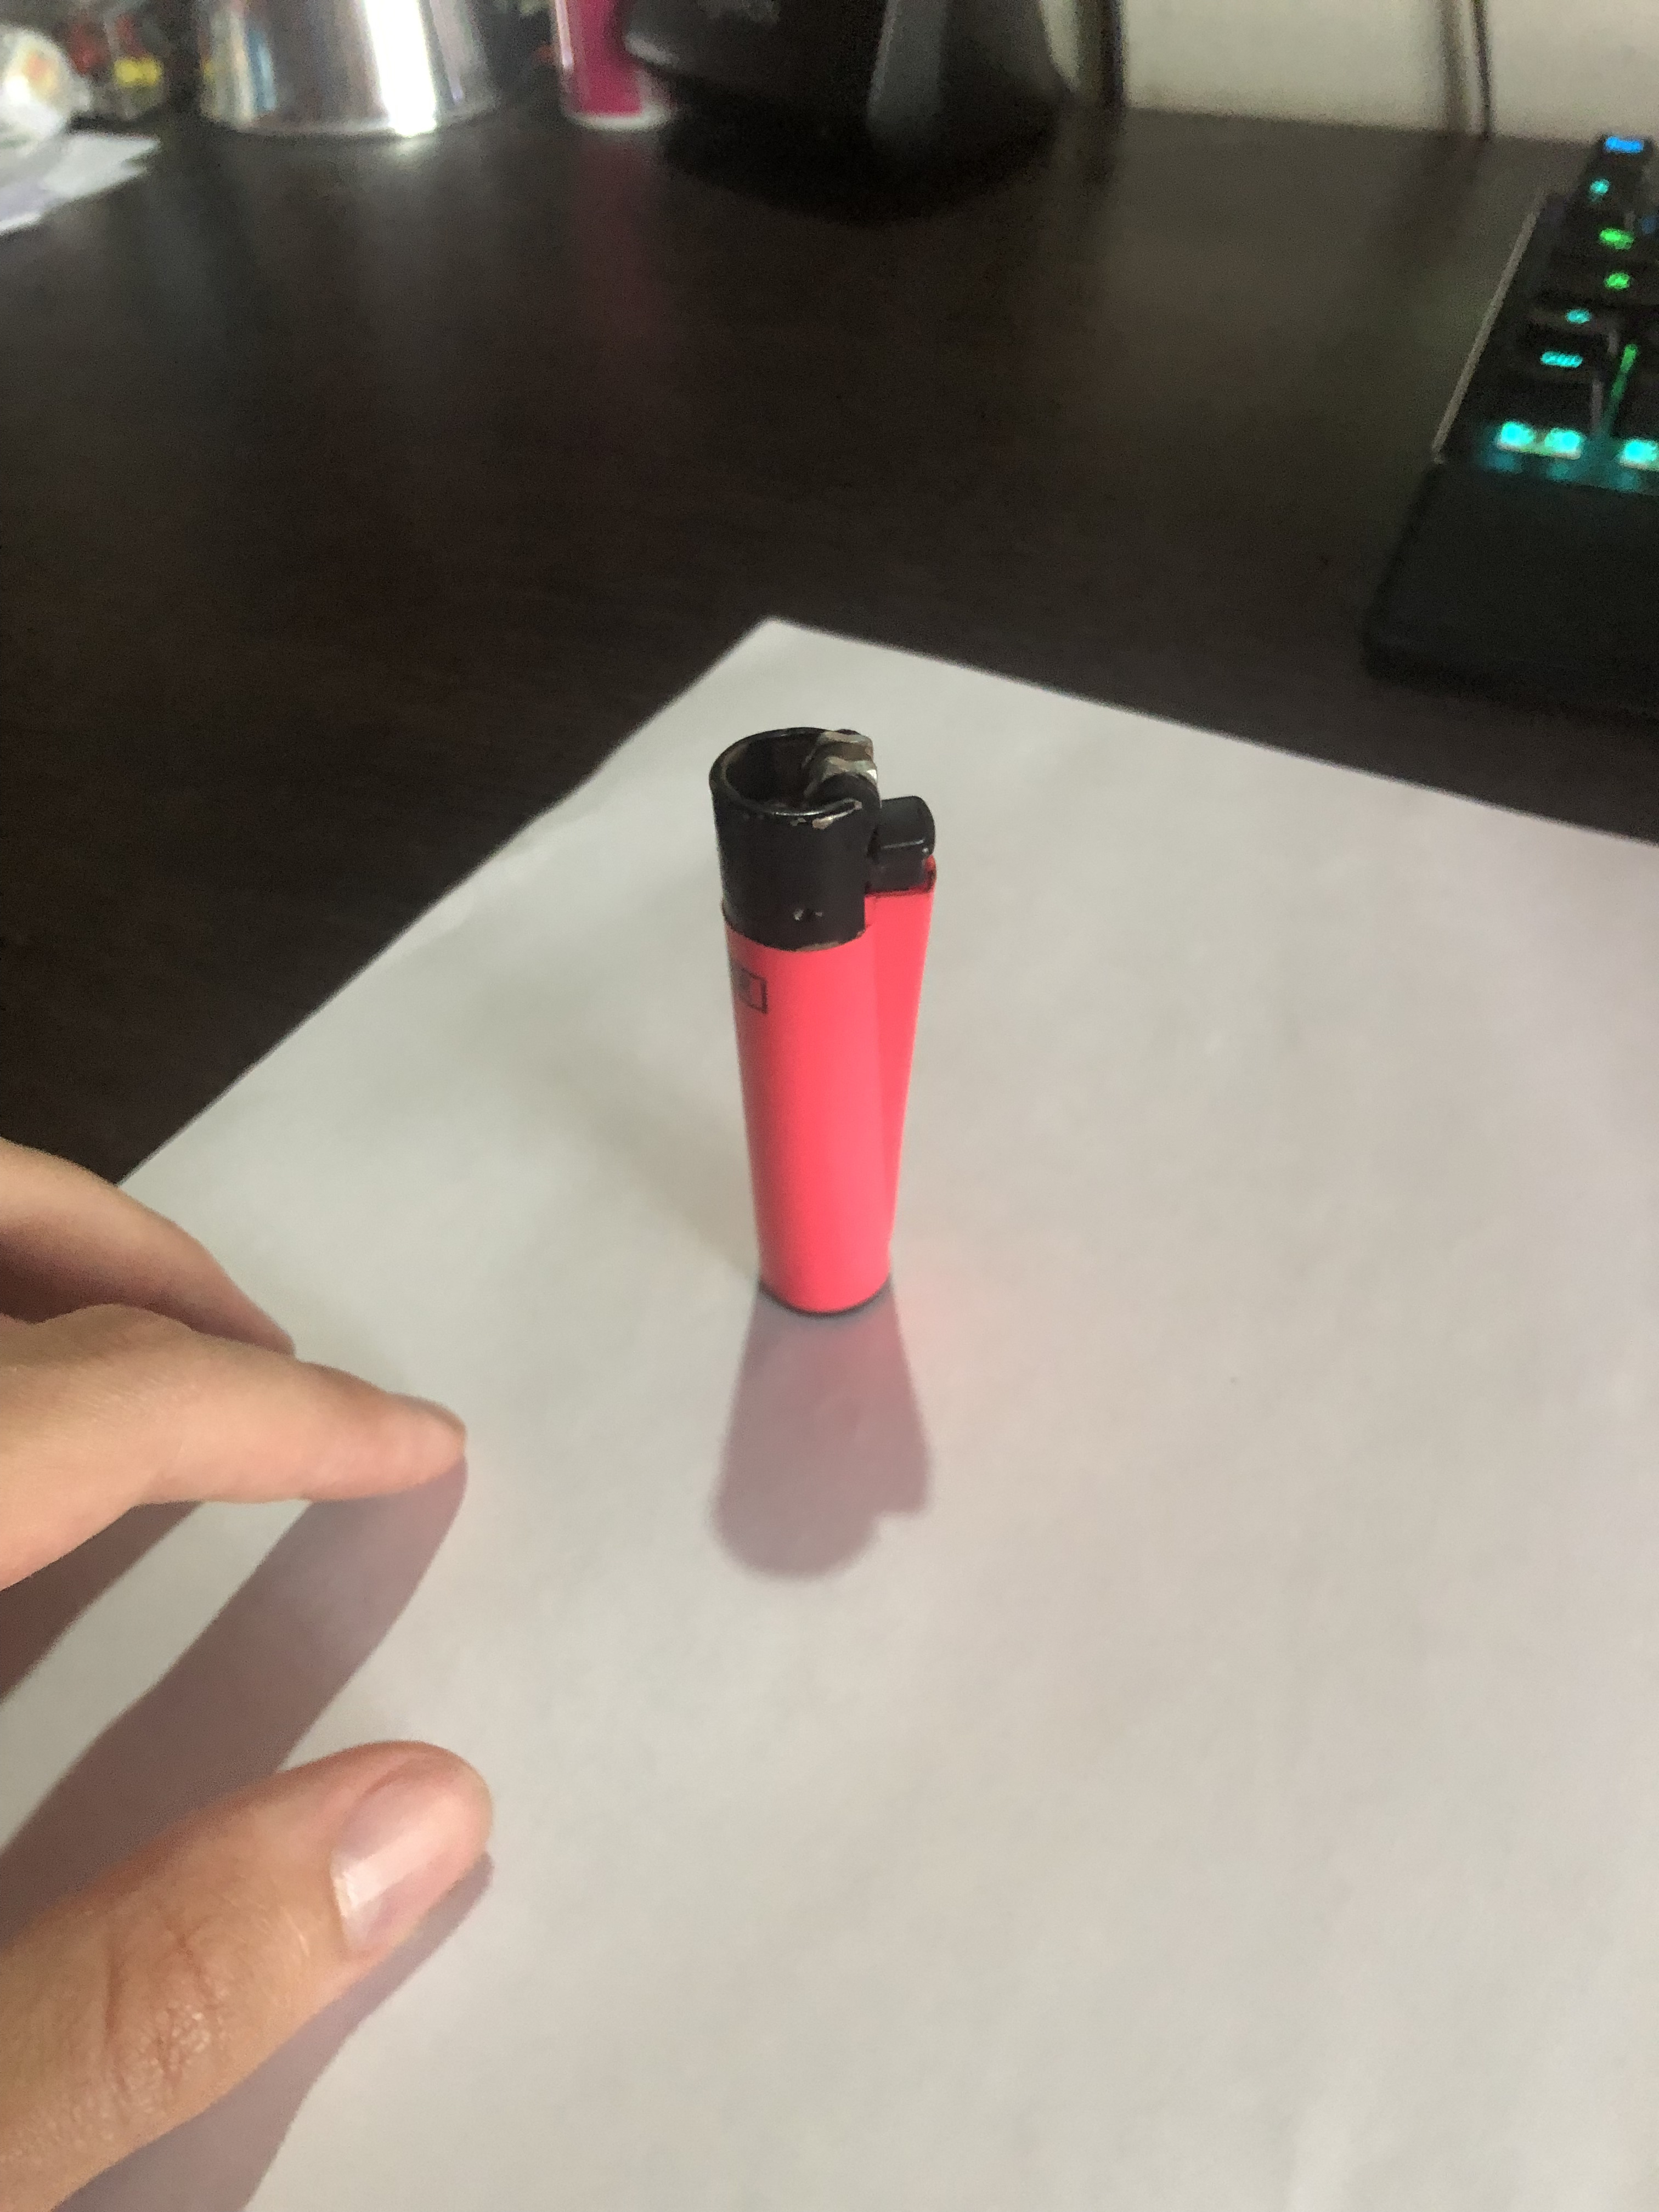Mechero: (685, 716, 951, 1327)
